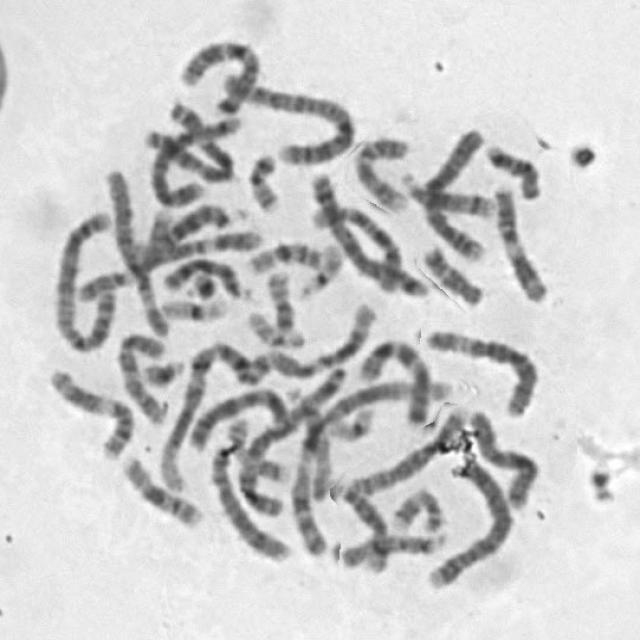A1: (152, 336, 276, 496), (282, 370, 338, 559)
A2: (214, 67, 357, 166), (47, 204, 122, 354)
A3: (233, 360, 349, 520), (156, 98, 237, 186)
B4: (421, 450, 515, 591), (418, 122, 491, 265)
B5: (306, 167, 429, 299), (144, 106, 242, 210)
C10: (306, 179, 420, 297), (111, 327, 169, 426)
C11: (44, 363, 138, 460), (488, 180, 554, 306)
C12: (262, 297, 380, 380), (124, 226, 264, 283)
C6: (97, 166, 172, 341), (421, 324, 541, 419)
C7: (354, 332, 436, 427), (174, 33, 265, 116)
C8: (343, 402, 471, 497), (204, 438, 294, 565)
C9: (65, 202, 176, 304), (348, 129, 412, 214)
D13: (157, 252, 255, 301), (146, 200, 234, 250)
D14: (396, 166, 499, 221), (335, 479, 393, 574)
D15: (282, 382, 334, 504), (336, 526, 451, 570)
E16: (114, 449, 204, 530), (242, 234, 326, 276)
E17: (220, 413, 290, 486), (387, 482, 446, 534)
E18: (415, 239, 486, 308), (480, 137, 544, 202)
F19: (156, 290, 231, 325), (327, 400, 378, 443)
F20: (244, 147, 282, 214), (262, 264, 298, 334)
G21: (137, 354, 187, 389), (183, 266, 220, 301)
G22: (294, 236, 346, 301), (240, 303, 308, 350)
X: (462, 402, 542, 511), (184, 386, 294, 452)
